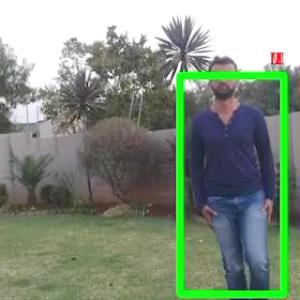follow: (197, 55, 280, 299)
